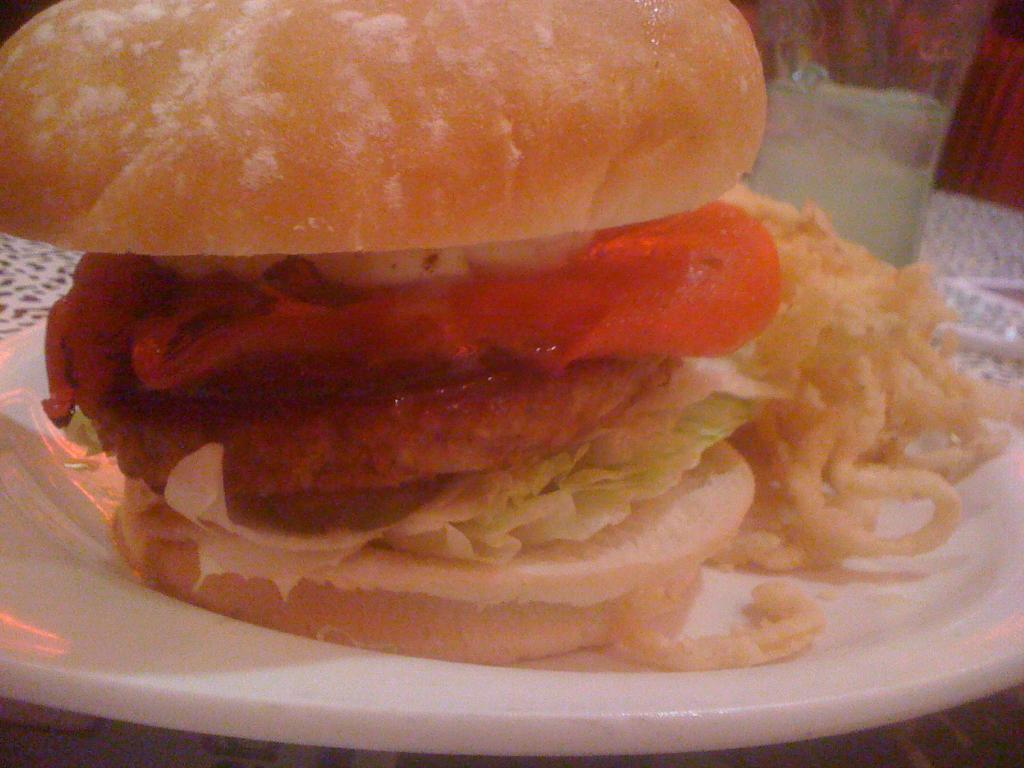Hamburger: (0, 0, 781, 664)
